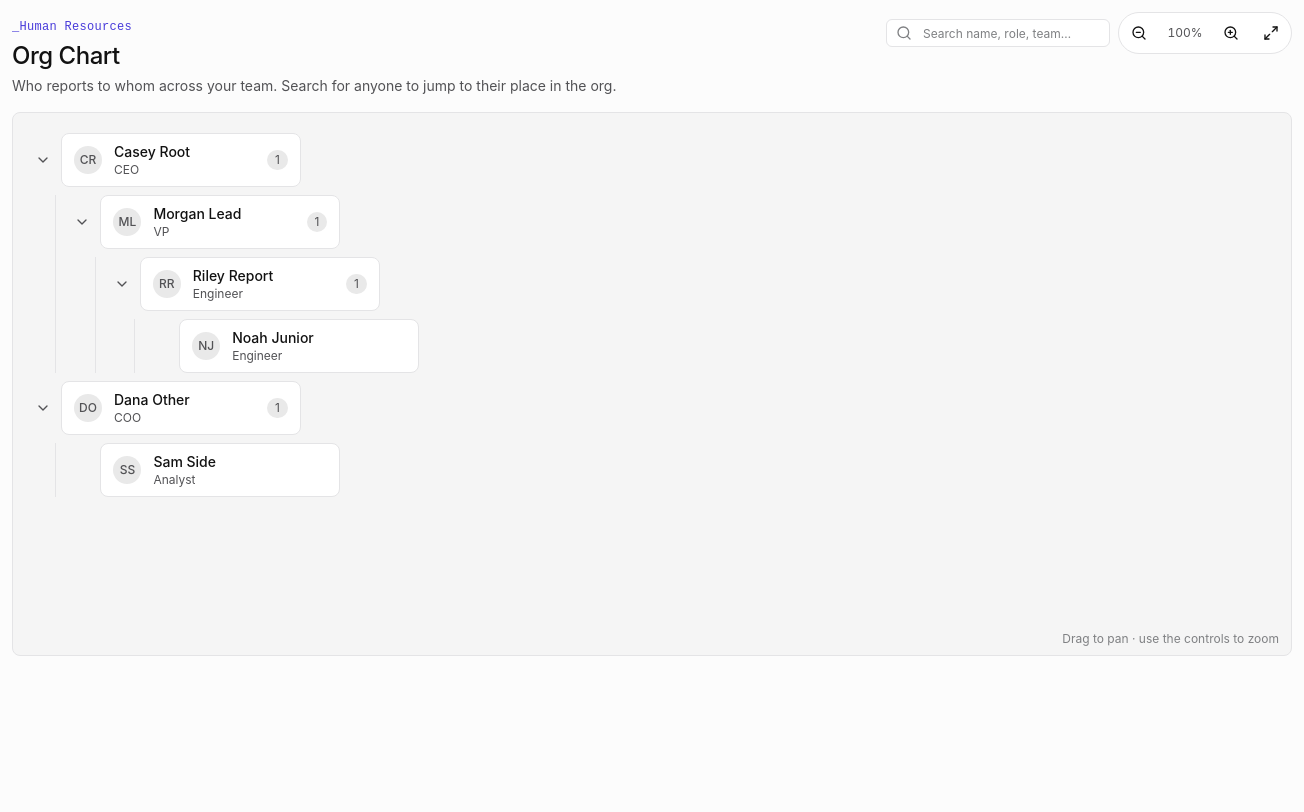
Scenario: OrgChartPage search › collapses branches that don't lead to a match
This screenshot has width=1304, height=812.
Check: the text "Casey Root" is shown, box 114,142 -> 190,162
Type "Riley" into the search field with placeholder "Search name, role, team…" at (998, 33), box 886,19 -> 1110,47
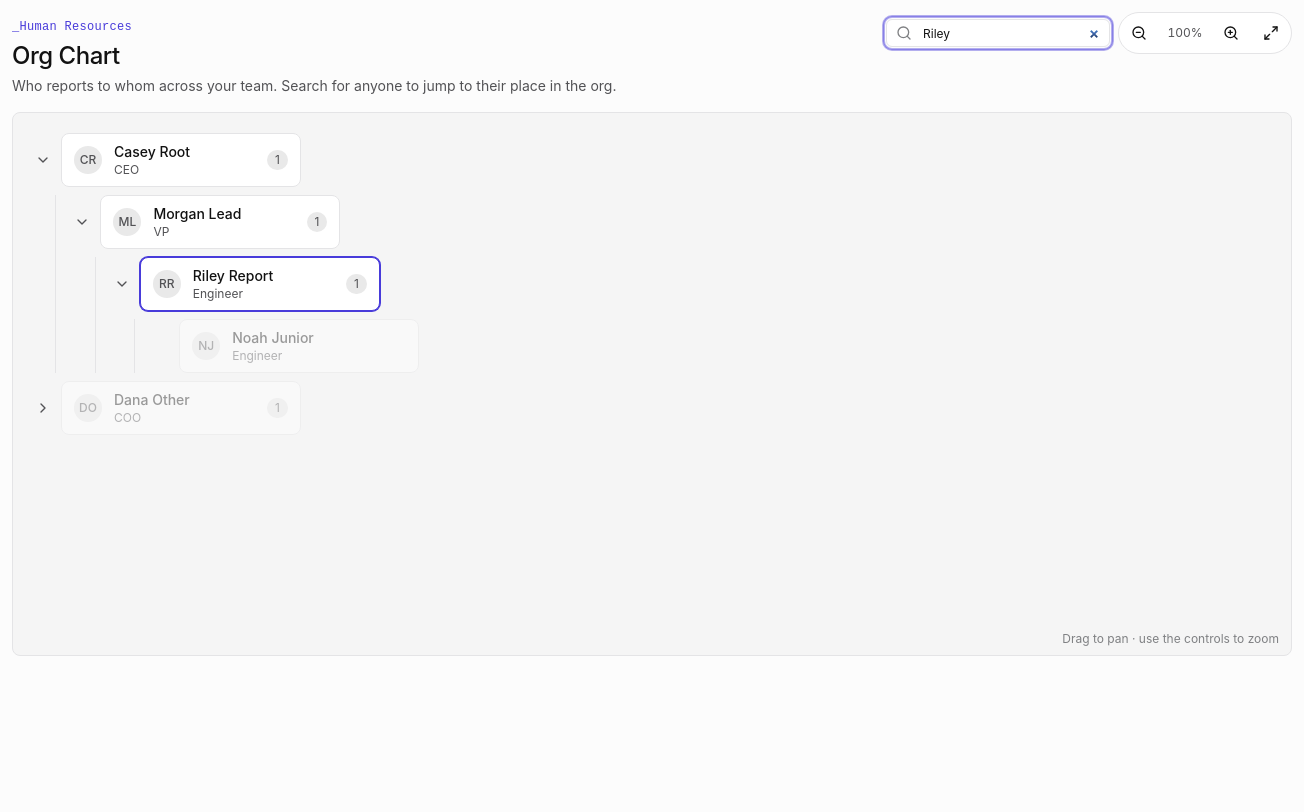
Check: the text "Riley Report" is shown, box 193,266 -> 273,286
Check: the text "Sam Side" is gone
